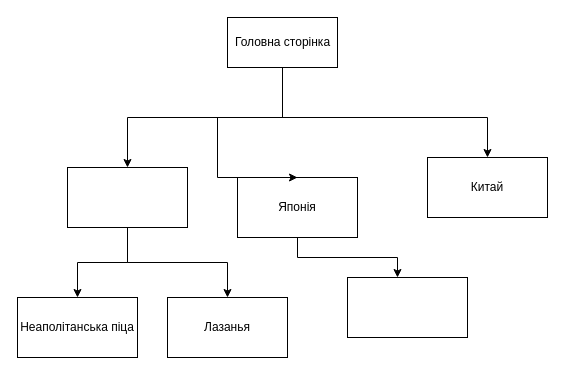
The diagram is 565 pixels wide and 375 high, and some of its shapes have lost their labels. Each missing label, with the centre of its shape:
"Рис" belongs at [407,307].
"Італія" belongs at [127,197].
